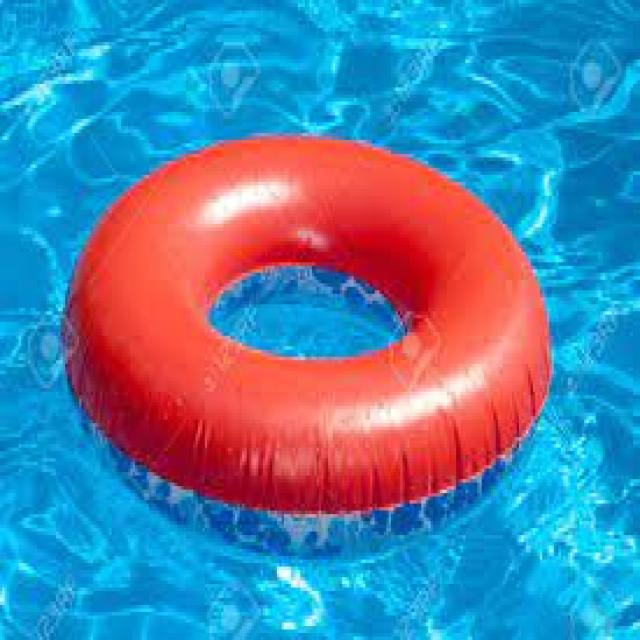lifesaver: (69, 132, 553, 561)
